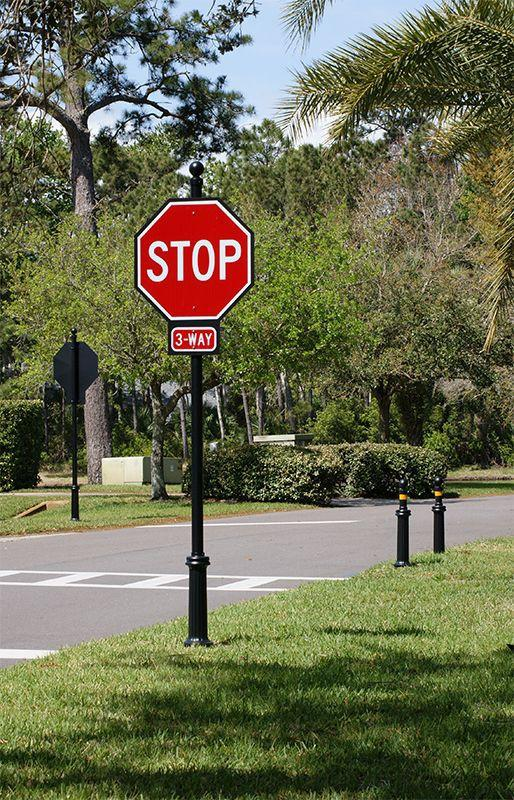Pole: (186, 353, 208, 646), (68, 388, 83, 524)
Sign: (139, 204, 248, 318)
